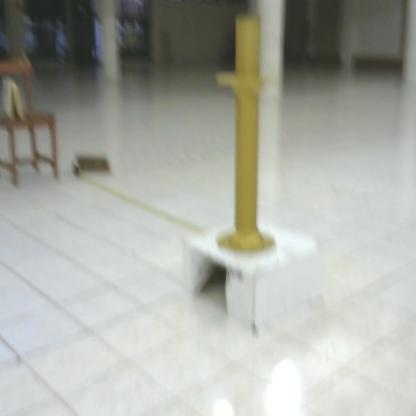pole: (211, 14, 286, 262)
